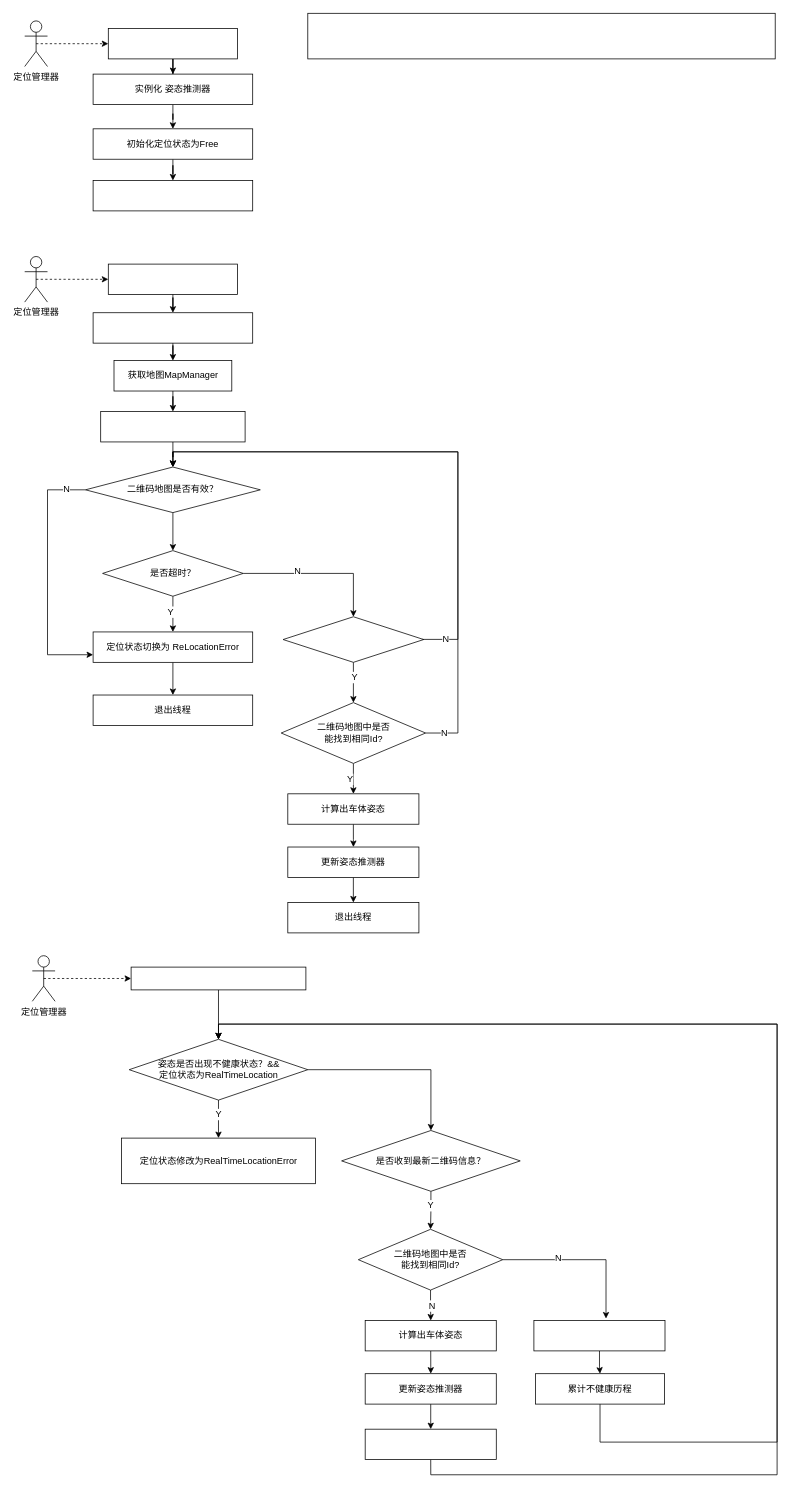
Image size: 796x1494. Some labels were removed from this diagram. The shapes that lost their labels are listed below. From the top down, each one's centre as x and y in pixels, then its label:
At (x=173, y=43): "二维码定位算法".
At (x=541, y=36): "二维码定位算法 流程图".
At (x=172, y=195): "实例化姿态健康监控".
At (x=173, y=278): "重定位指令/ 启动线程".
At (x=172, y=327): "定位状态切换为 ReLocation".
At (x=172, y=426): "获取二维码地图".
At (x=353, y=639): "是否获取二维码数据？".
At (x=218, y=978): "开启实时定位线程".
At (x=599, y=1335): "刷新全部里程计数据".
At (x=430, y=1444): "重置不健康历程".
